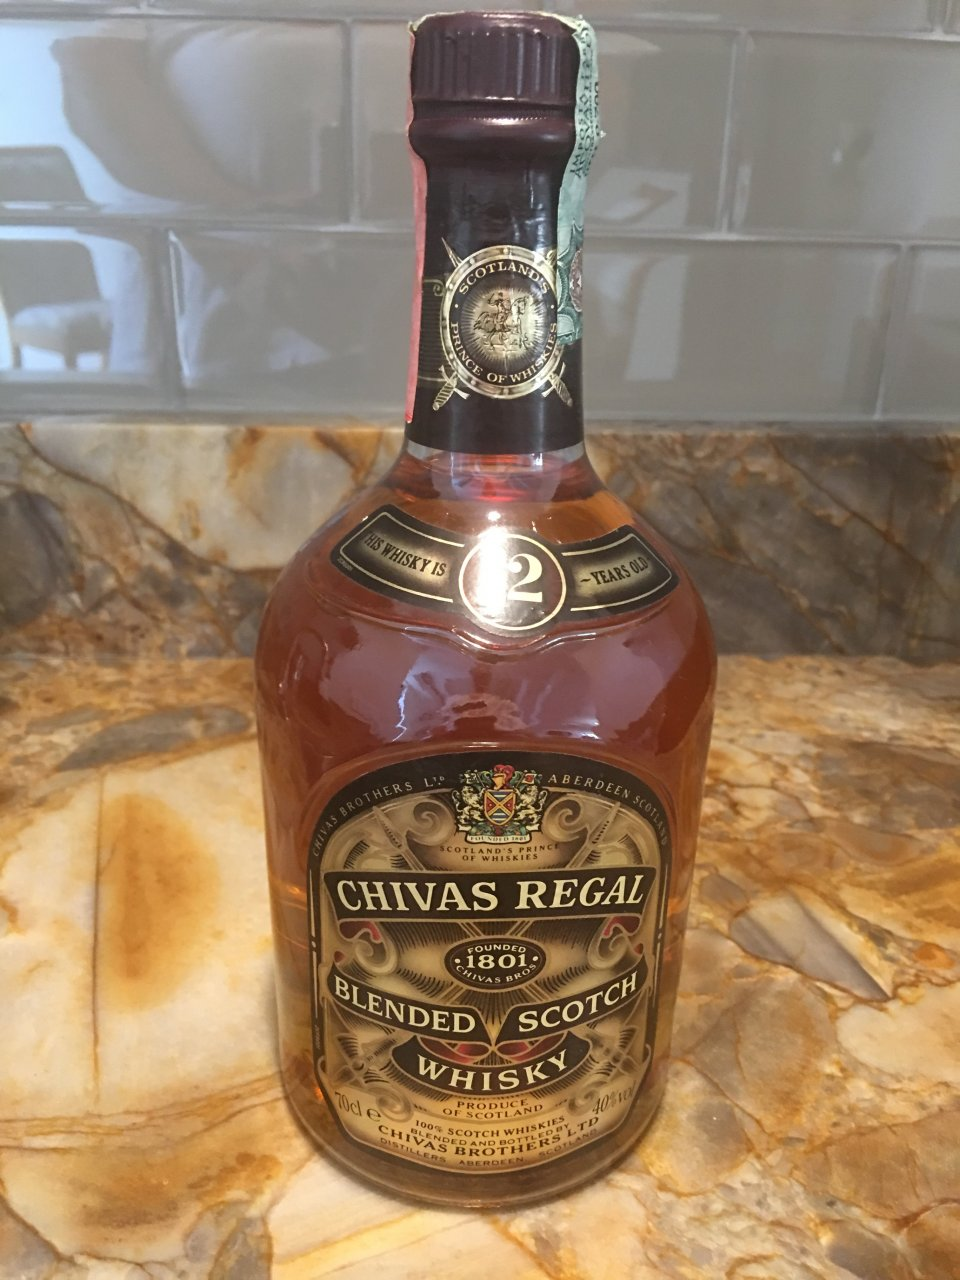Chivas Regal: (238, 3, 727, 1222)
